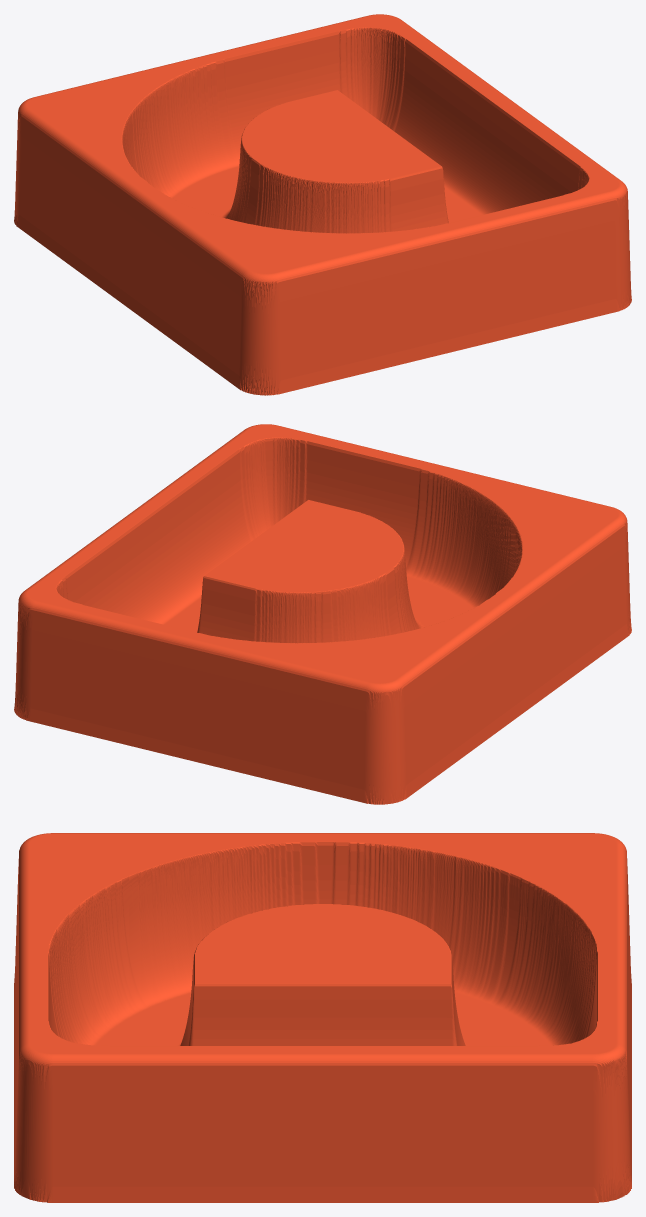
File: mold.glb
The picture shows the model from 3 angles, top to bottom: view 1: azimuth 30°, elevation 25°; view 2: azimuth 150°, elevation 25°; view 3: azimuth 270°, elevation 25°; orthographic projection. The views are drawn at different scales.
Parts seen in each view (by area): view 1: geometry_0; view 2: geometry_0; view 3: geometry_0.
Boxes of the visible parts, bbox=[...] form: geometry_0: bbox=[14, 14, 631, 395]; geometry_0: bbox=[14, 424, 631, 804]; geometry_0: bbox=[14, 833, 631, 1202].
Size of the model in its own units: 0.1279 by 0.0365 by 0.1435.
